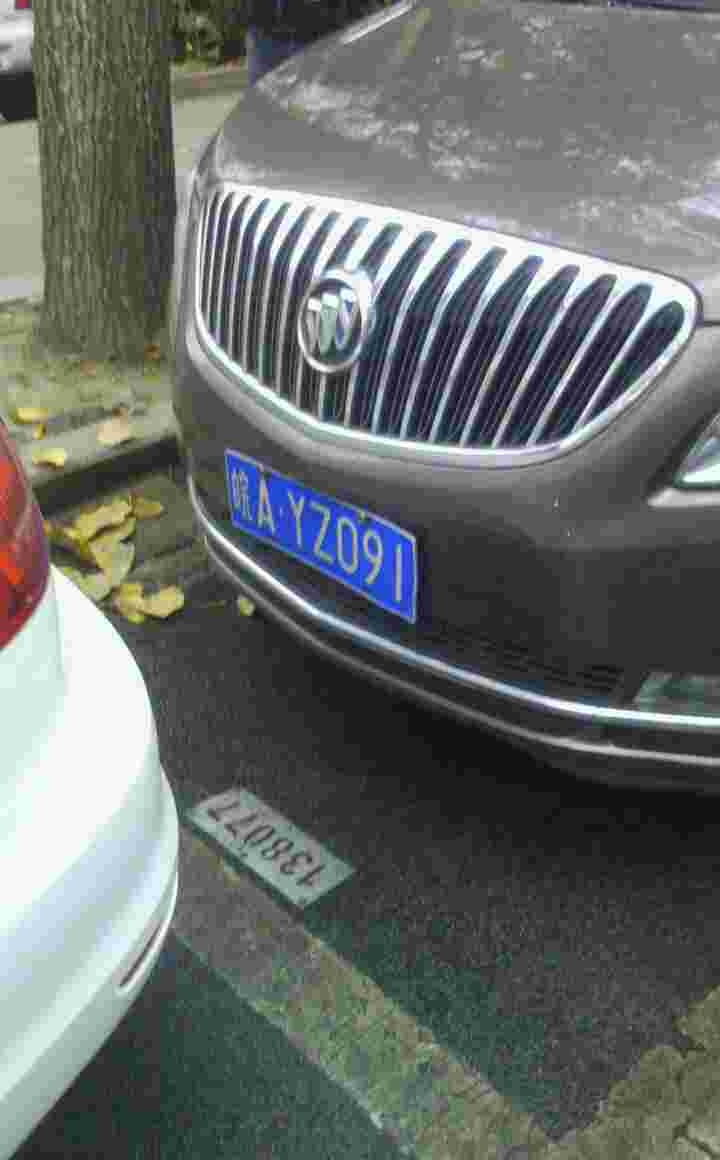license_plate: (223, 449, 422, 619)
